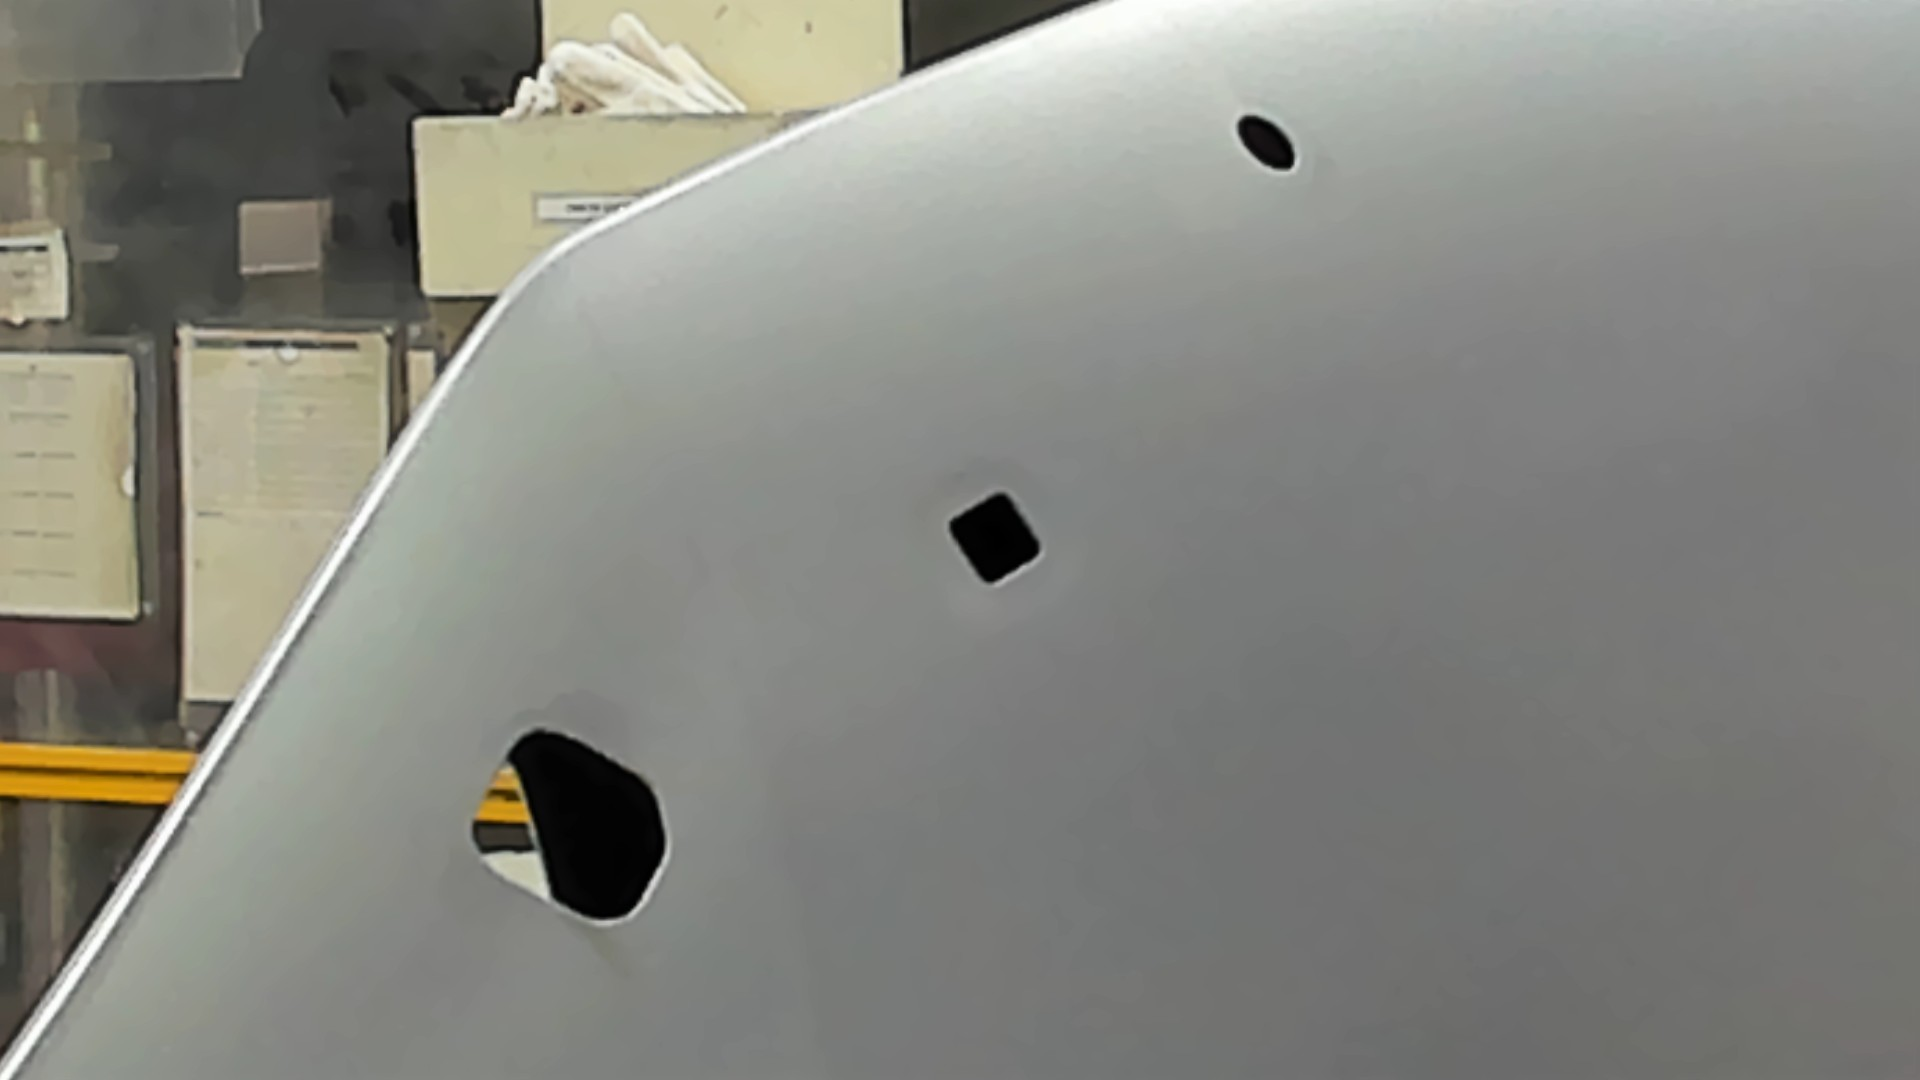chico: (1233, 109, 1302, 177)
grande: (463, 717, 680, 934)
mediano: (942, 483, 1050, 591)
